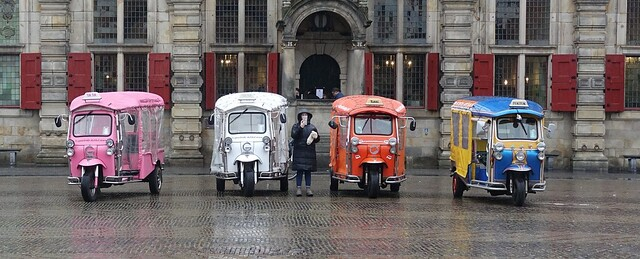threewheel: (64, 91, 165, 202), (449, 95, 546, 206), (208, 90, 291, 196), (329, 94, 408, 200)
